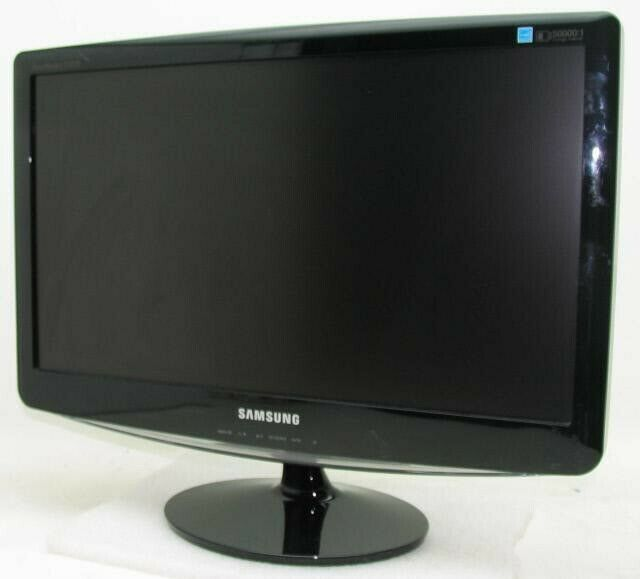samsung-monitor-b2030: (9, 8, 622, 561)
